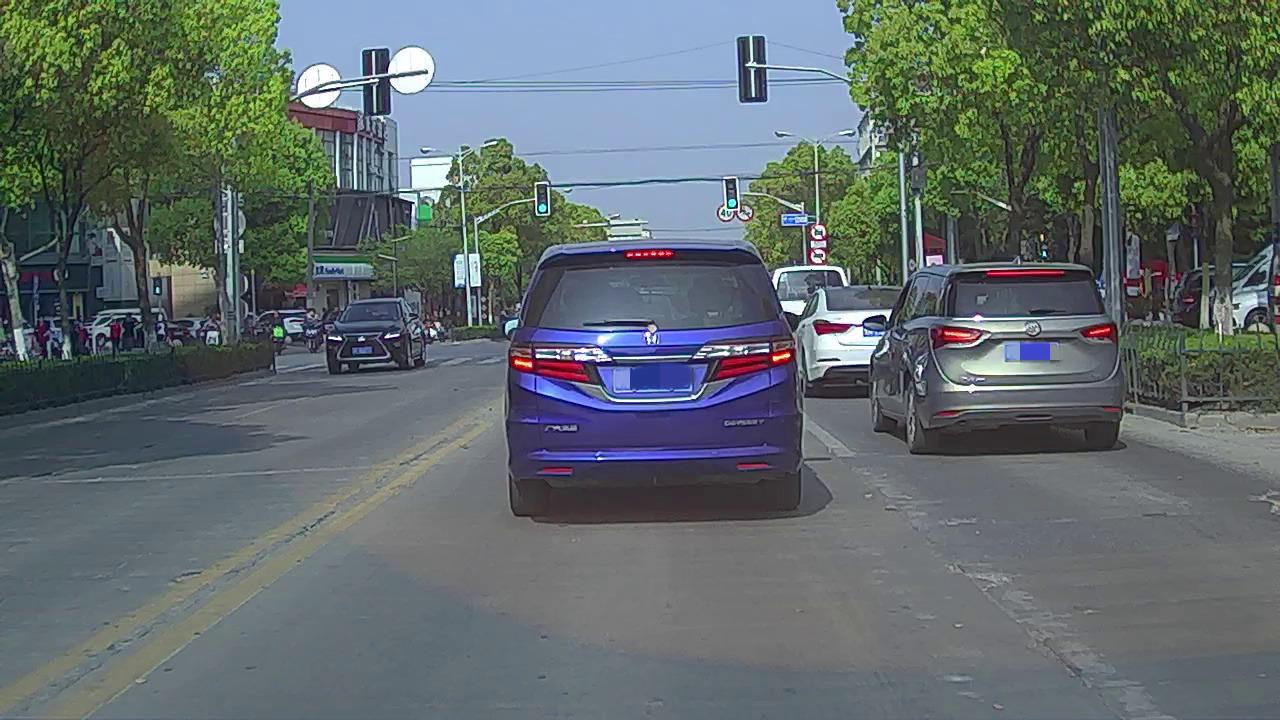traffic_light: (724, 176, 739, 209), (535, 182, 549, 214)
